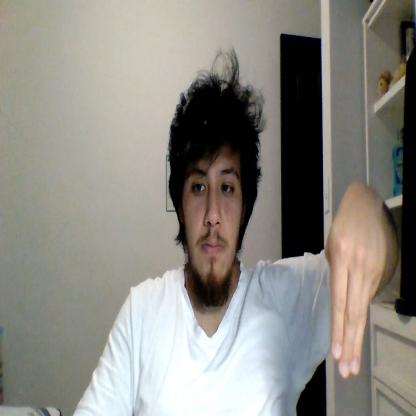M: (324, 198, 386, 380)
